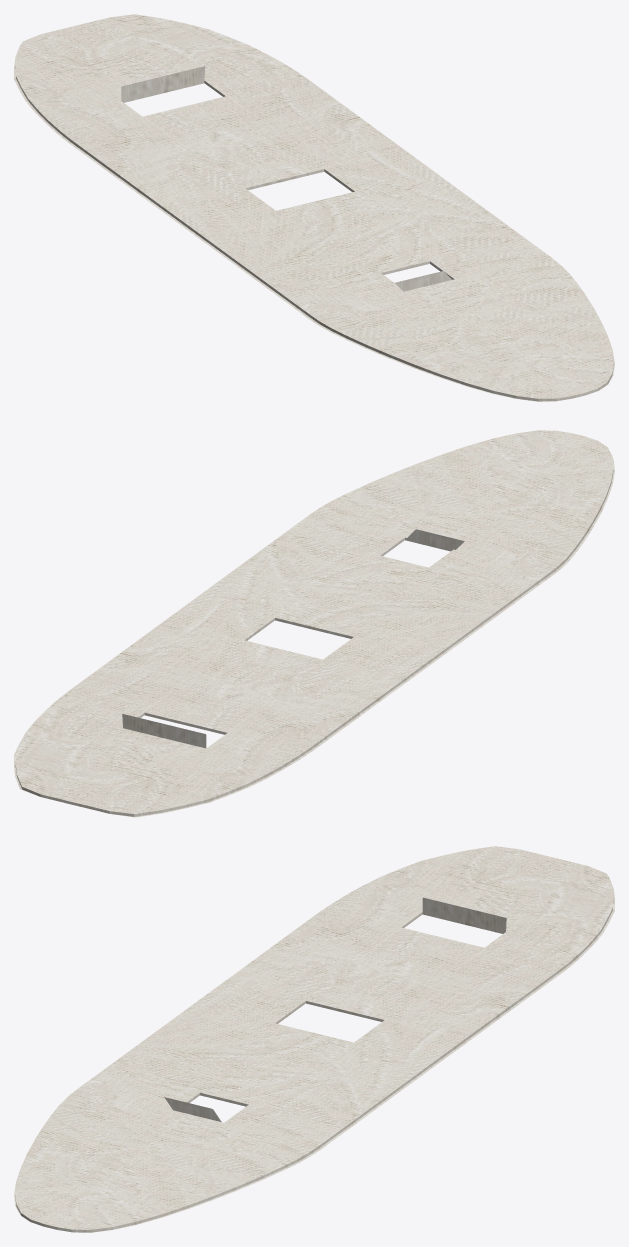
File: Ceiling.fbx
3 renders of one model, top to bottom at view 1: azimuth 30°, elevation 25°; view 2: azimuth 150°, elevation 25°; view 3: azimuth 330°, elevation 25°, orthographic.
Parts seen in each view (by area): view 1: Ceiling; view 2: Ceiling; view 3: Ceiling.
Part boxes in pixels (x1,y1,x2,y2): Ceiling: [14, 14, 614, 401]; Ceiling: [14, 430, 614, 817]; Ceiling: [14, 846, 614, 1232].
Bounding box in the file's own units: 25.97 × 1.73 × 92.55.
Materials: 1 (1 with a texture image).
